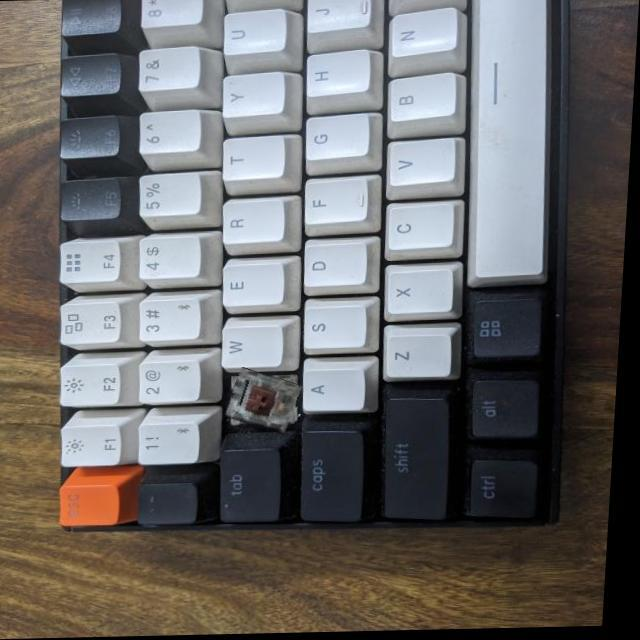key-switch: (231, 371, 306, 432)
